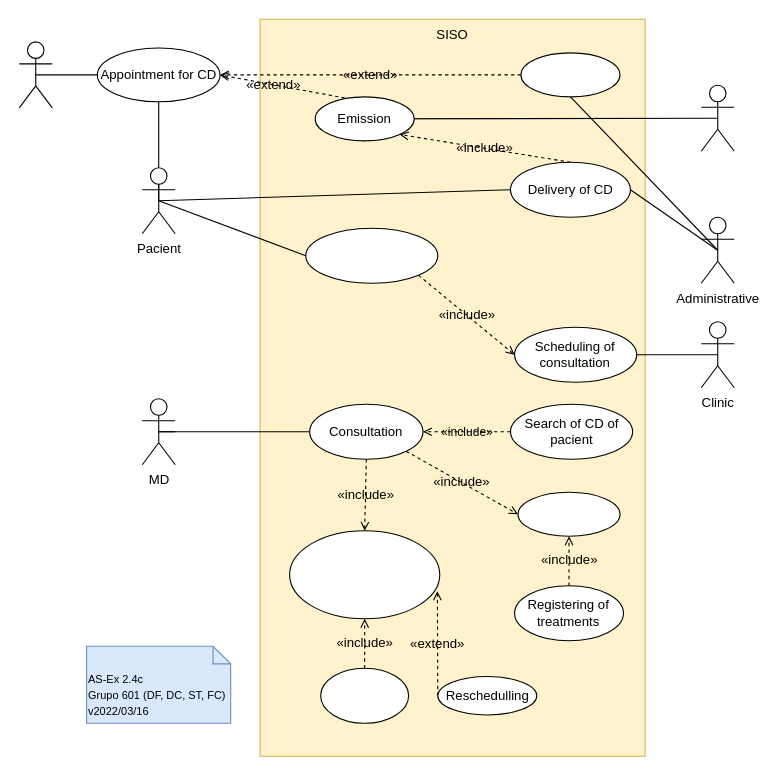
Some shapes in this 778 by 776 pixel diagram are drawn without their labels. The centre of each missing label's shape, as x and y in pixels:
Cancel: pixel 570 74
Escolha do médico dentista: pixel 371 255
MA: pixel 35 74
Marcação de Radiografia: pixel 364 695
Medical Software: pixel 717 117
Planning of treatments and registering of diagnostics: pixel 364 574
Treatment: pixel 568 513
